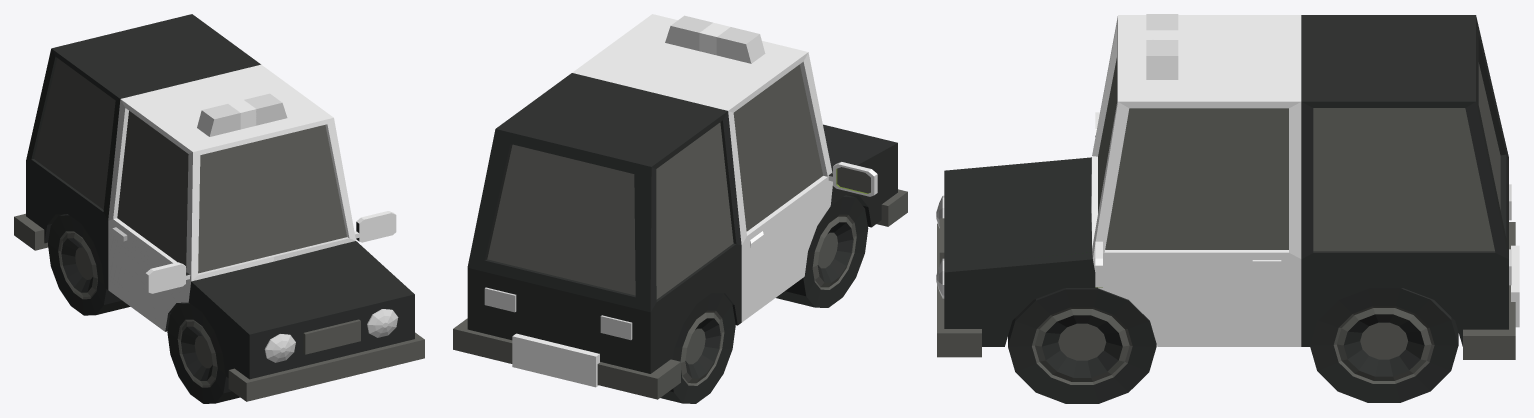
File: mobil polisi.fbx
3 views of the same model, side by side, from view 1: azimuth 30°, elevation 25°; view 2: azimuth 150°, elevation 25°; view 3: azimuth 270°, elevation 25° (orthographic). The views are drawn at different scales.
Visible parts, largest first — view 1: mobil polisi, lampu depan.002, lampumerah_pulici, lampubiru_pulici; view 2: mobil polisi, lampumerah_pulici, lampu merah belakang.003, lampubiru_pulici; view 3: mobil polisi, lampubiru_pulici, lampumerah_pulici.
Part boxes in pixels (bbox=[...]): mobil polisi: bbox=[14, 14, 424, 403]; lampu depan.002: bbox=[264, 309, 398, 362]; lampumerah_pulici: bbox=[197, 104, 240, 136]; lampubiru_pulici: bbox=[244, 93, 287, 125]; mobil polisi: bbox=[453, 14, 907, 403]; lampumerah_pulici: bbox=[716, 27, 765, 63]; lampu merah belakang.003: bbox=[484, 287, 632, 340]; lampubiru_pulici: bbox=[665, 15, 712, 50]; mobil polisi: bbox=[937, 15, 1519, 403]; lampubiru_pulici: bbox=[1146, 40, 1178, 79]; lampumerah_pulici: bbox=[1146, 14, 1178, 30].
Size of the model in its own units: 498 by 481 by 803.
3 materials, 1 textured.
